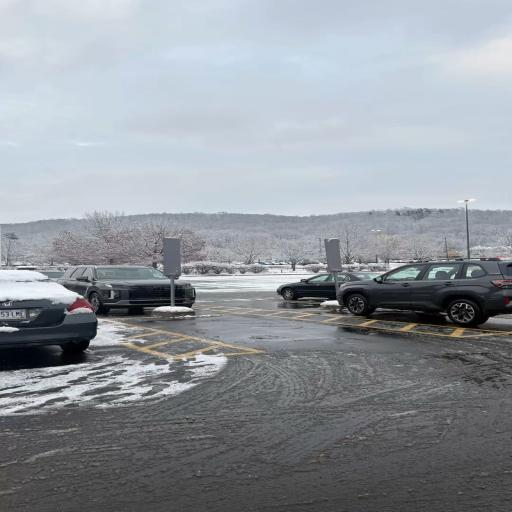bottle: (338, 258, 511, 327), (0, 270, 97, 353), (57, 265, 170, 314), (175, 280, 195, 306)
ramp: (5, 285, 511, 512)
